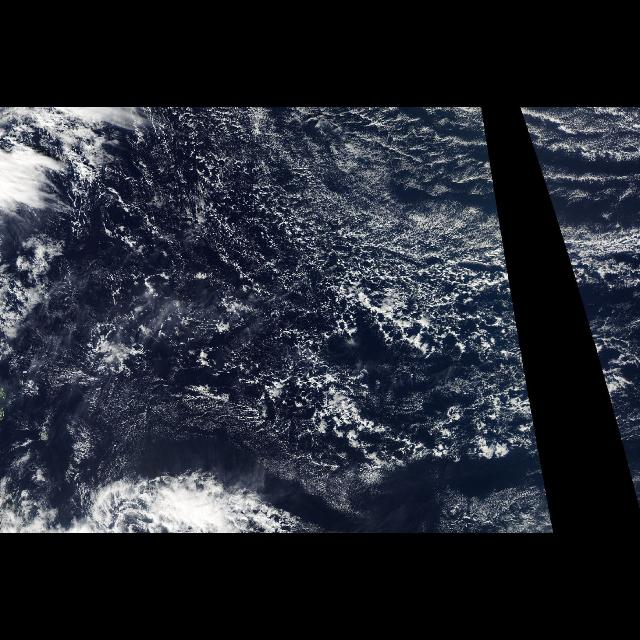Gravel: (123, 110, 543, 464), (520, 110, 632, 464)
Sugar: (124, 132, 500, 458)
